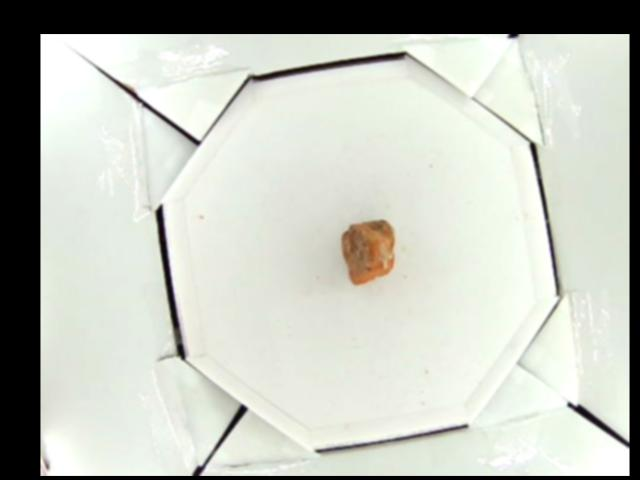Brisk: (344, 220, 394, 285)
